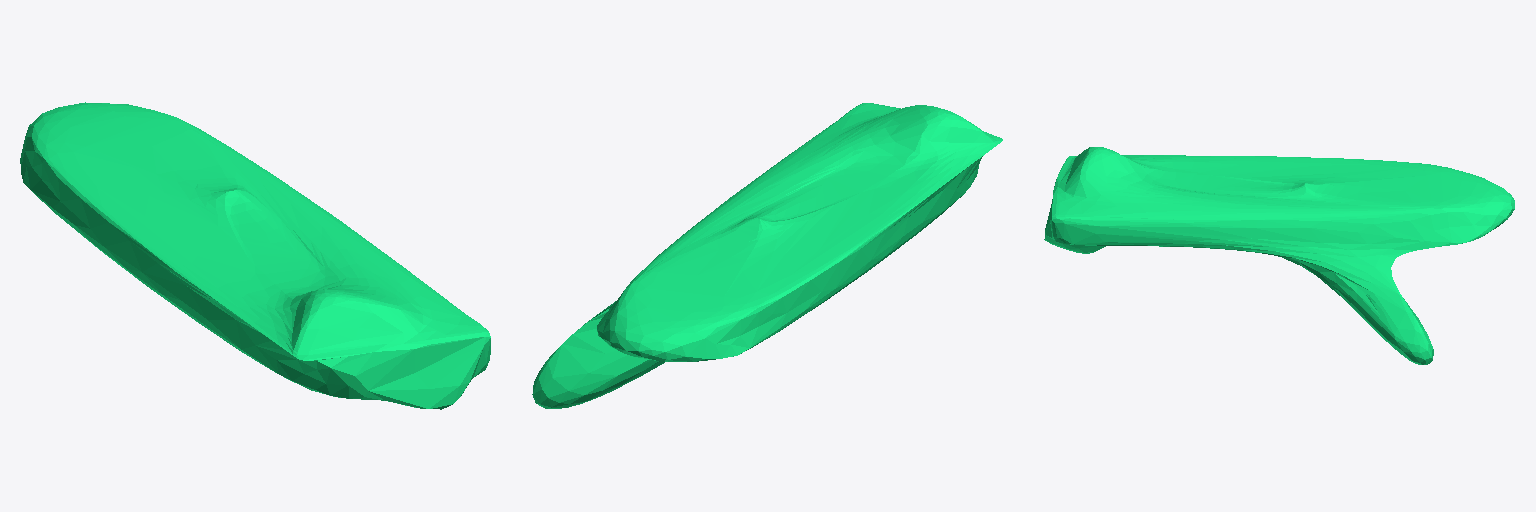
The robot description file, URDF, robot "blob932":

<robot name="blob932">
  <link name="random_obj_932">
    <contact>
      <lateral_friction value="1.0"/>
      <rolling_friction value="0.0"/>
      <inertia_scaling value="3.0"/>
      <contact_cfm value="0.0"/>
      <contact_erp value="1.0"/>
    </contact>
    <inertial>
      <origin rpy="0 0 0" xyz="0 0 0"/>
      <mass value="0.0565"/>
      <inertia ixx="1" ixy="0" ixz="0" iyy="1" iyz="0" izz="0"/>
    </inertial>
    <visual>
      <origin rpy="0 0 0" xyz="0 0 0"/>
      <geometry>
        <mesh filename="932.obj" scale="0.0073 0.0073 0.0073"/>
      </geometry>
      <material name="blockmat">
        <color rgba="0.15 0.96 0.58 1"/>
      </material>
    </visual>
    <collision>
      <origin rpy="0 0 0" xyz="0 0 0"/>
      <geometry>
        <mesh filename="932_coll.obj" scale="0.0073 0.0073 0.0073"/>
      </geometry>
    </collision>
  </link>
</robot>

--- What the picture shows (computed from the rendered views, not written in the file) ---
The picture shows the robot from 3 angles, left to right: view 1: azimuth 30°, elevation 25°; view 2: azimuth 150°, elevation 25°; view 3: azimuth 270°, elevation 25°; orthographic projection.
Robot: blob932 — 1 links, 0 joints (none); root link random_obj_932; default pose: all joints at 0.
Visible links, largest first — view 1: random_obj_932; view 2: random_obj_932; view 3: random_obj_932.
Boxes of the visible links, left/top/right/bottom form: random_obj_932: left=20, top=102, right=490, bottom=409; random_obj_932: left=532, top=103, right=1002, bottom=408; random_obj_932: left=1044, top=147, right=1514, bottom=364.
Size in the robot's own frame: 0.0398 by 0.0851 by 0.029 metres.
1 mesh visuals loaded from 1 distinct referenced files (1 OBJ).
